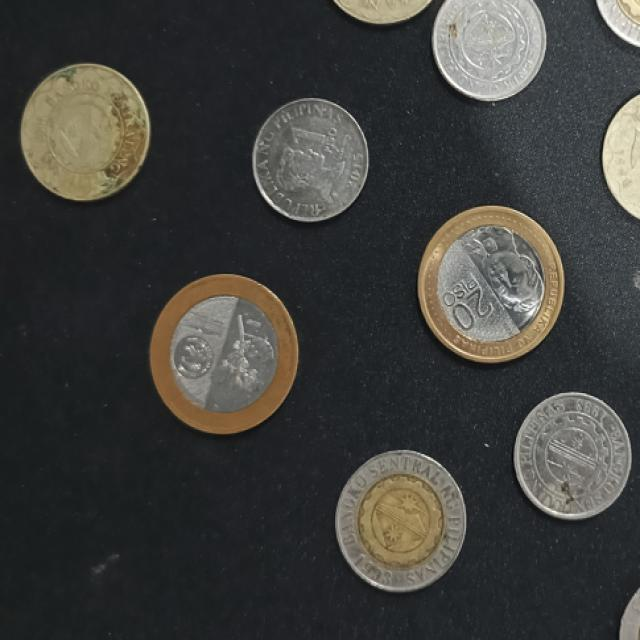10_peso: (335, 453, 464, 590)
1_peso: (515, 392, 631, 518), (253, 98, 368, 221), (432, 0, 545, 99)
20_peso: (150, 275, 297, 431), (418, 207, 563, 362)
5_peso: (21, 68, 145, 200)
